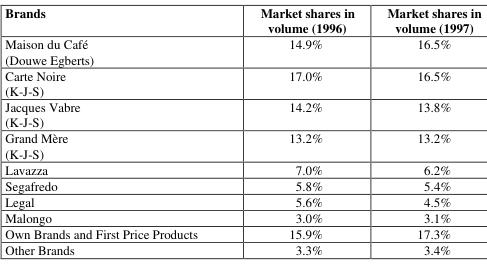table: (4, 3, 480, 257)
table column: (4, 3, 228, 257), (228, 3, 370, 257), (370, 3, 480, 257)
table column header: (4, 3, 480, 35)
table row: (4, 3, 480, 35), (4, 97, 480, 129), (4, 35, 480, 66), (4, 66, 480, 97), (4, 129, 480, 160), (4, 208, 480, 225), (4, 160, 480, 176), (4, 176, 480, 192), (4, 192, 480, 208), (4, 225, 480, 241), (4, 241, 480, 257)
